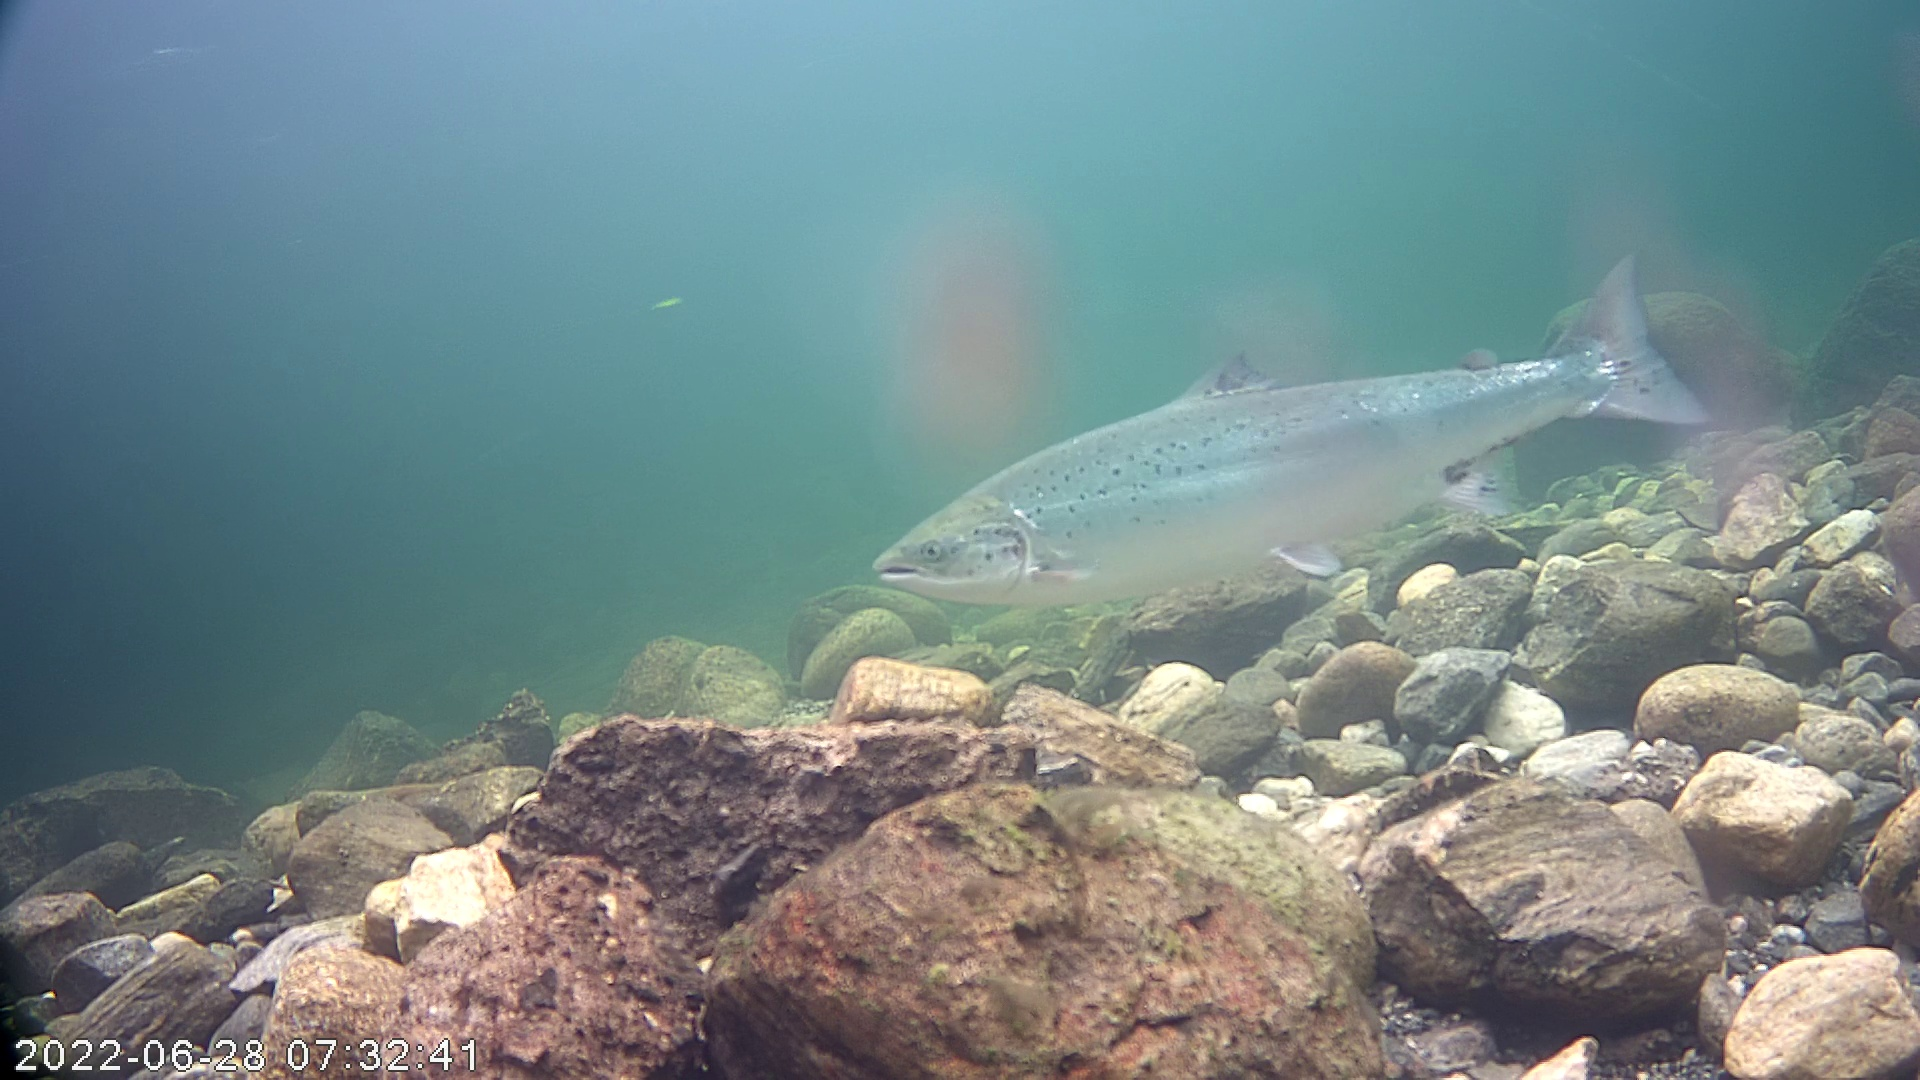salmon: (865, 207, 1722, 665)
